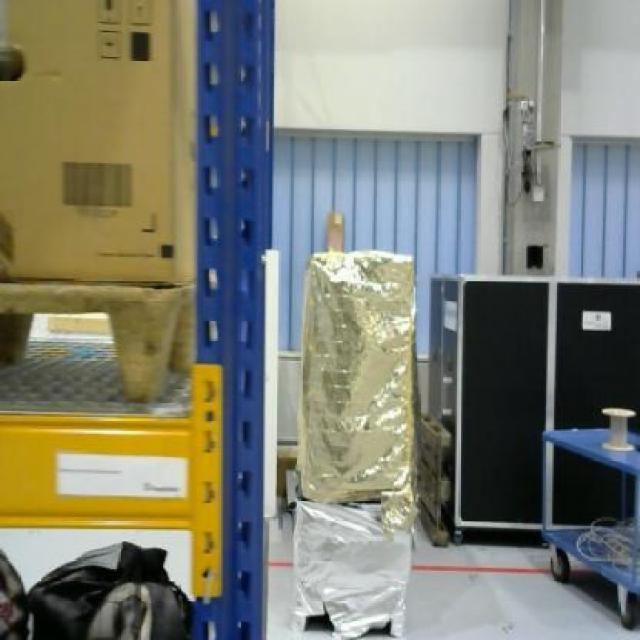box: (0, 0, 195, 284)
